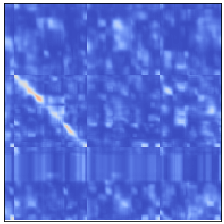action_path: (10, 75, 85, 149)
